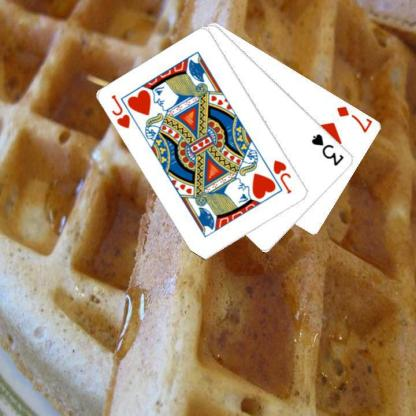3S: (309, 131, 346, 167)
7D: (334, 103, 373, 134)
JH: (271, 157, 294, 195), (109, 92, 132, 130)
